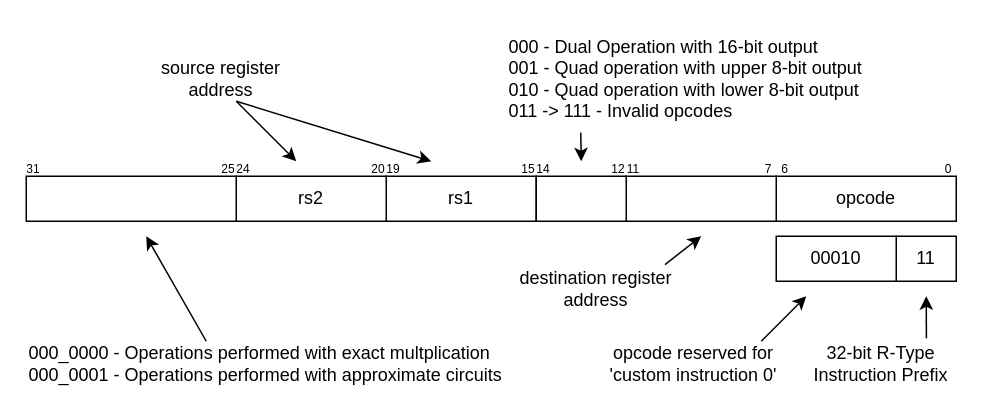
The diagram is 983 pixels wide and 411 high, and some of its shapes have lost their labels. The centre of each missing label's shape, as x and y in pixels:
"funct3" belongs at [580,198].
"funct7" belongs at [130,198].
"rd" belongs at [700,198].
